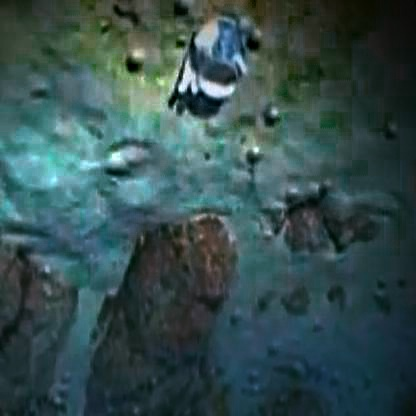misc: (178, 17, 284, 143)
